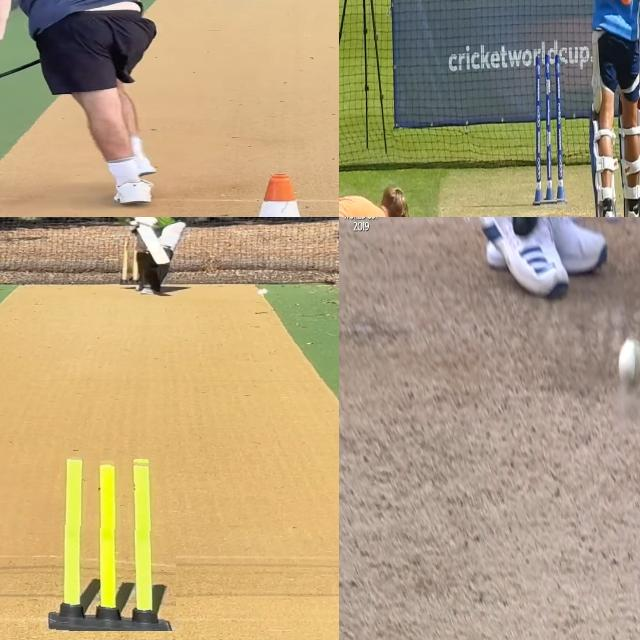Cricket ball: (617, 336, 640, 392), (254, 287, 271, 297)
Stumps: (50, 456, 177, 631), (532, 50, 566, 207)
